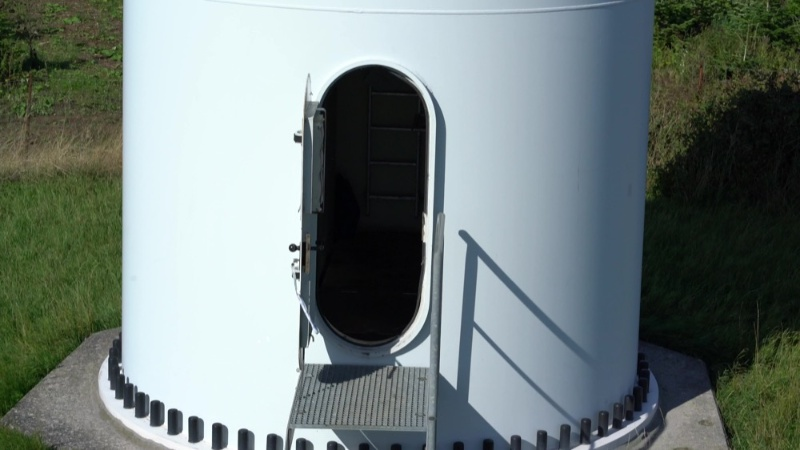weldseam: (219, 1, 631, 19)
